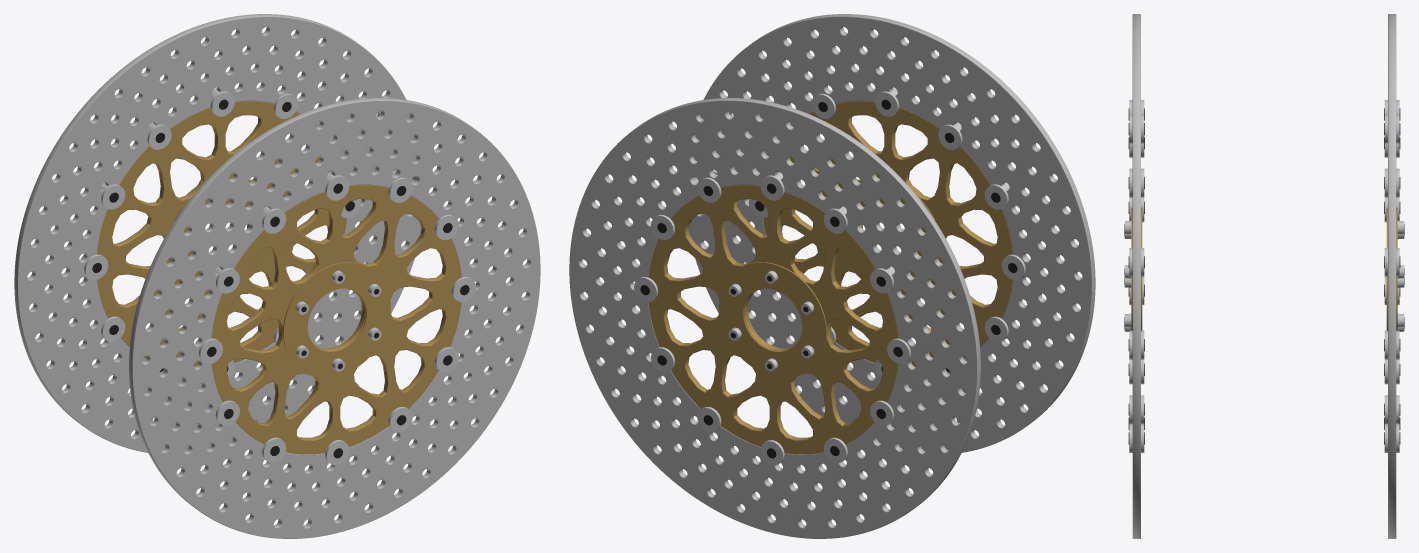
File: lattice.glb
The picture shows the model from 3 angles, left to right: view 1: azimuth 30°, elevation 25°; view 2: azimuth 150°, elevation 25°; view 3: azimuth 270°, elevation 25°; orthographic projection. The views are drawn at different scales.
Parts seen in each view (by area): view 1: disc_front_lattice; view 2: disc_front_lattice; view 3: disc_front_lattice.
Boxes of the visible parts, box(x1,y1,x2,y2) form: disc_front_lattice: box(14, 14, 540, 538); disc_front_lattice: box(569, 14, 1095, 538); disc_front_lattice: box(1124, 14, 1404, 538).
Bounding box in the file's own units: 0.3208 × 0.3208 × 0.1714.
